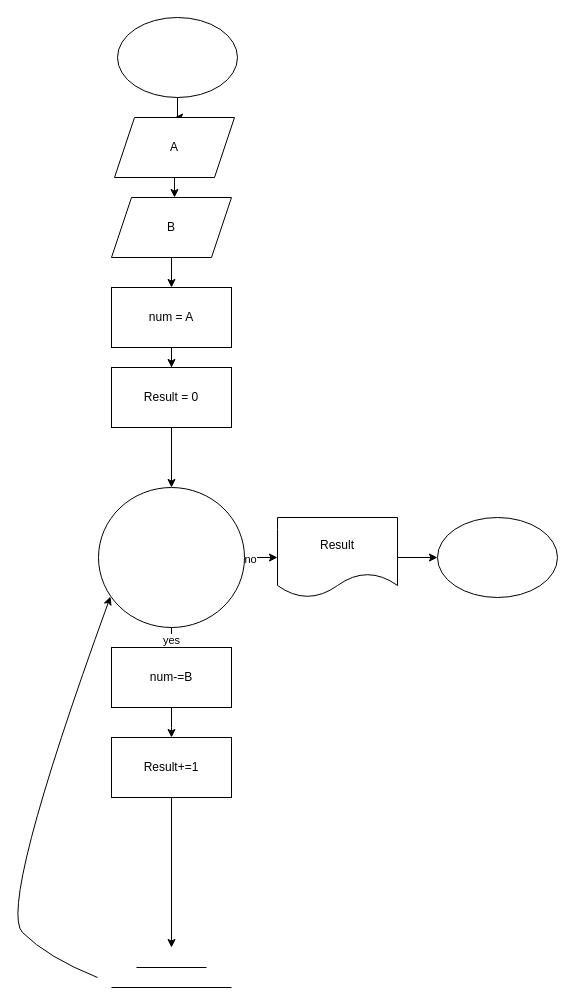
Image size: 575x1006. Some labels were removed from this diagram. The centre of each missing label's shape, as x and y in pixels:
num!=0: point 171,557
start: point 177,57
stop: point 497,557
